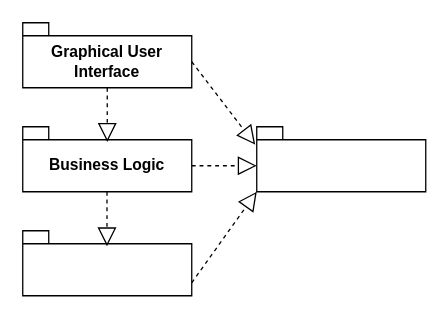
Image size: 448x324. Some labels were removed from this diagram. The shapes that lost their labels are listed below. From the top down, each one's centre as x and y in pixels, then its label:
pixel 340 158: Data Model
pixel 106 262: Data Acces
